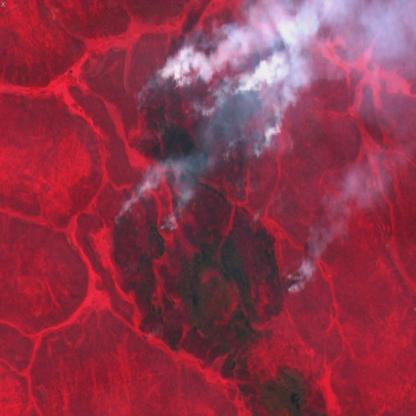fire: (108, 59, 314, 302)
